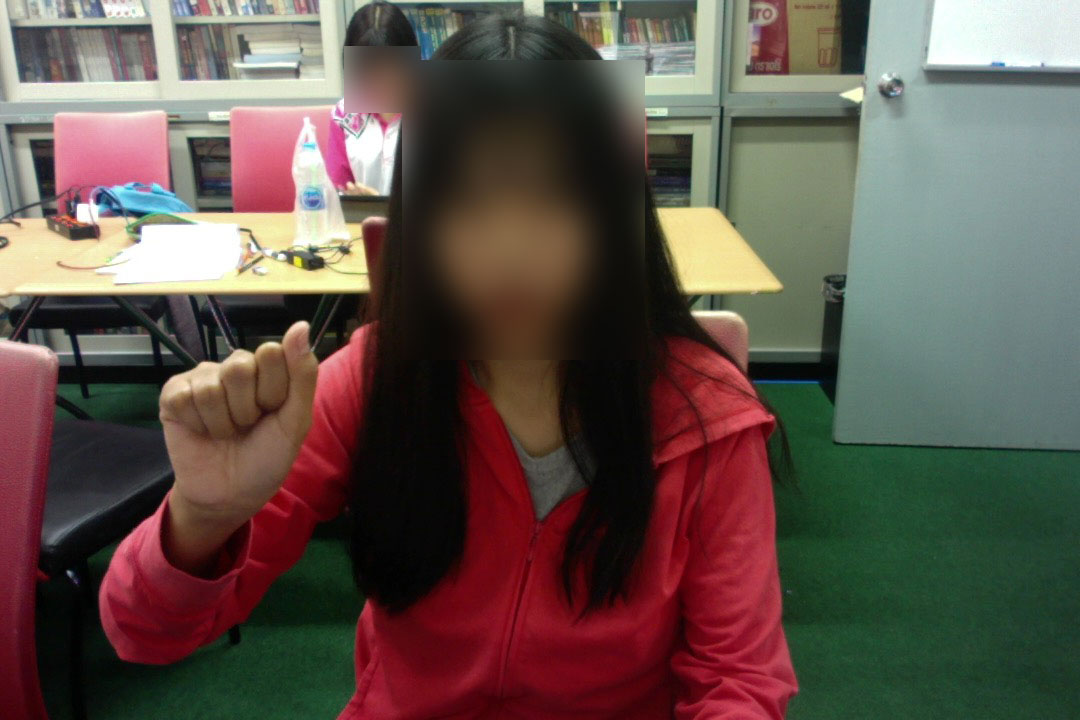or: (150, 315, 328, 543)
